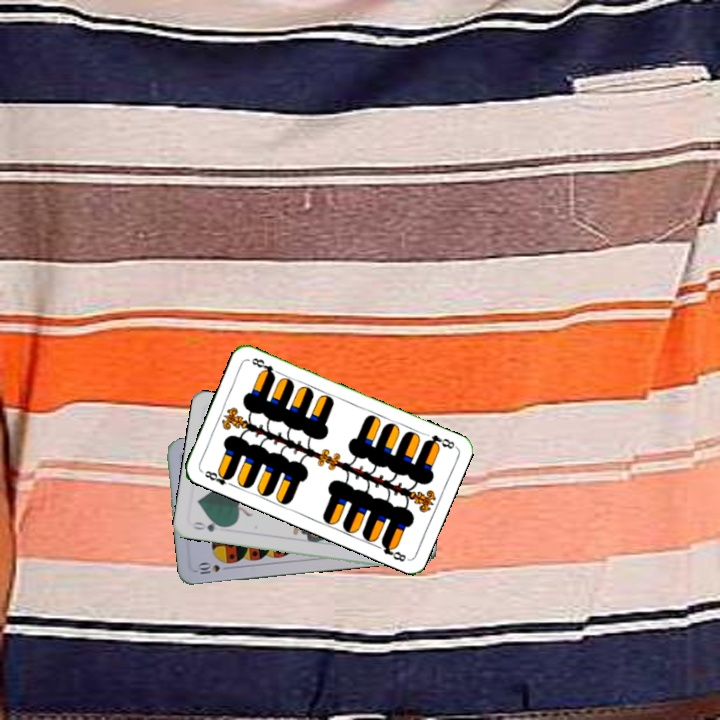E8: (200, 466, 236, 489), (420, 431, 458, 451)
GO: (188, 517, 228, 535)
S10: (192, 560, 233, 577)
